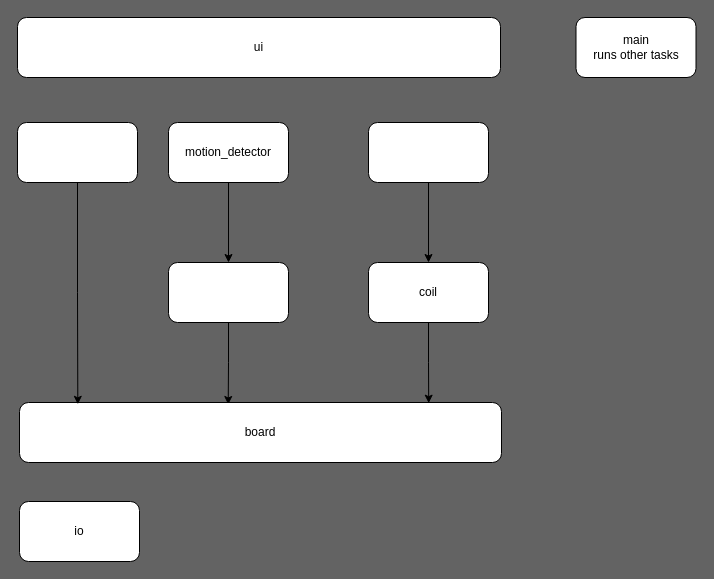
Some shapes in this 714 by 579 pixel diagram are drawn without their labels. The centre of each missing label's shape, as x and y in pixels:
"button" belongs at pixel 77 152.
"cannon" belongs at pixel 428 152.
"echo_sensor" belongs at pixel 228 292.
